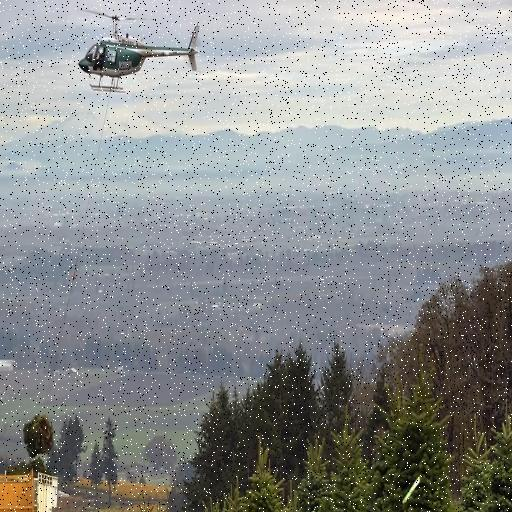helicopter: (77, 3, 203, 91)
